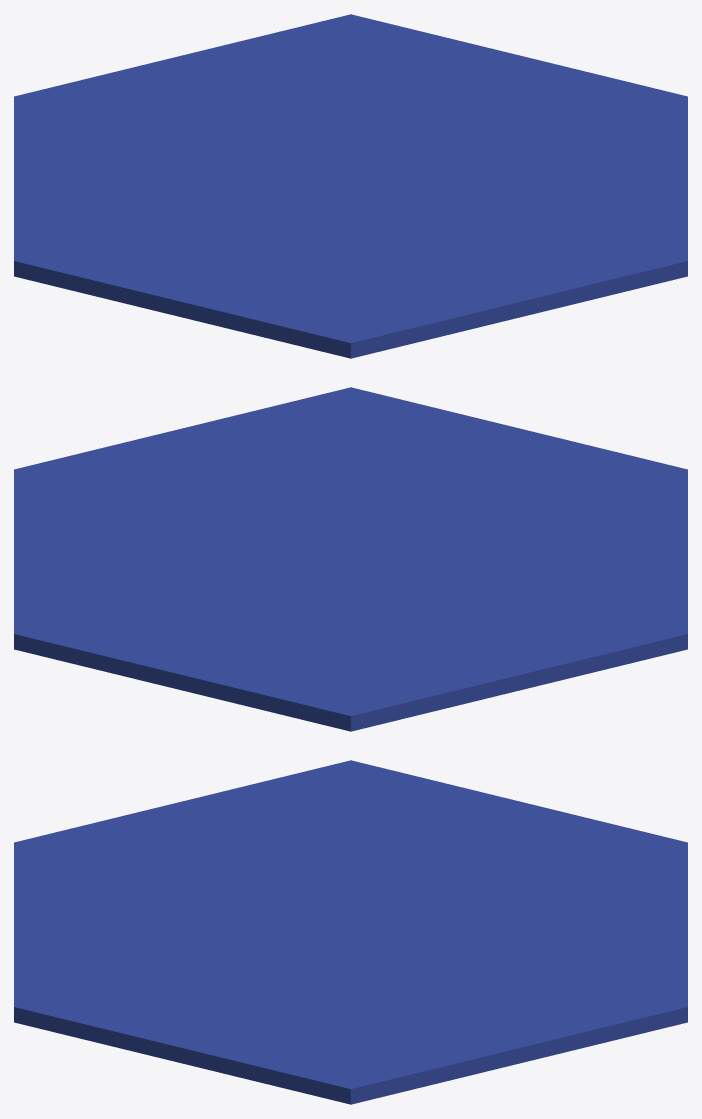
The model's file is atap.fbx.
The picture shows the model from 3 angles, top to bottom: view 1: azimuth 30°, elevation 25°; view 2: azimuth 150°, elevation 25°; view 3: azimuth 270°, elevation 25°; orthographic projection.
Visible parts, largest first — view 1: polySurface1; view 2: polySurface1; view 3: polySurface1.
Part boxes in pixels (x1,y1,x2,y2): polySurface1: (14, 14, 687, 358); polySurface1: (14, 387, 687, 731); polySurface1: (14, 760, 687, 1104).
Bounding box in the file's own units: 33.13 × 0.7286 × 28.7.
